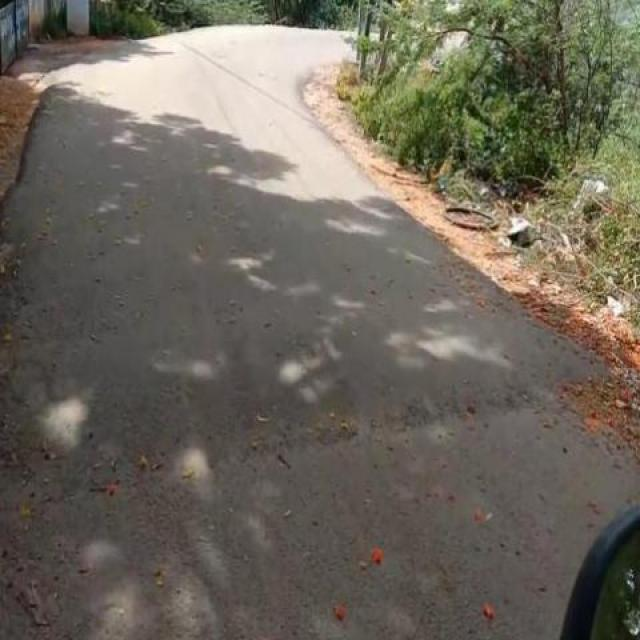Unmarked Bump: (0, 296, 627, 434)
